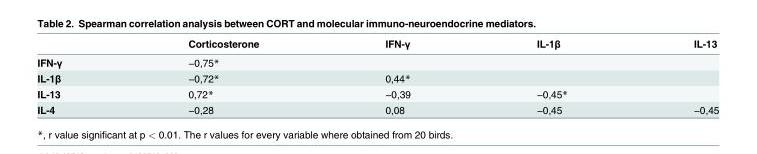table: (36, 37, 718, 115)
table column: (124, 37, 321, 115), (472, 37, 629, 115), (321, 37, 472, 115), (629, 37, 718, 115), (36, 37, 124, 115)
table column header: (36, 37, 718, 52)
table row: (36, 52, 718, 70), (36, 85, 718, 101), (36, 37, 718, 52), (36, 70, 718, 85), (36, 101, 718, 115)
